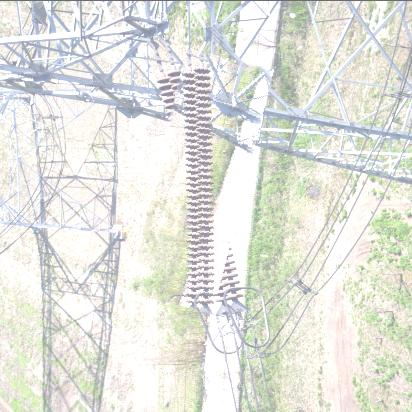insulator: (142, 52, 261, 311)
